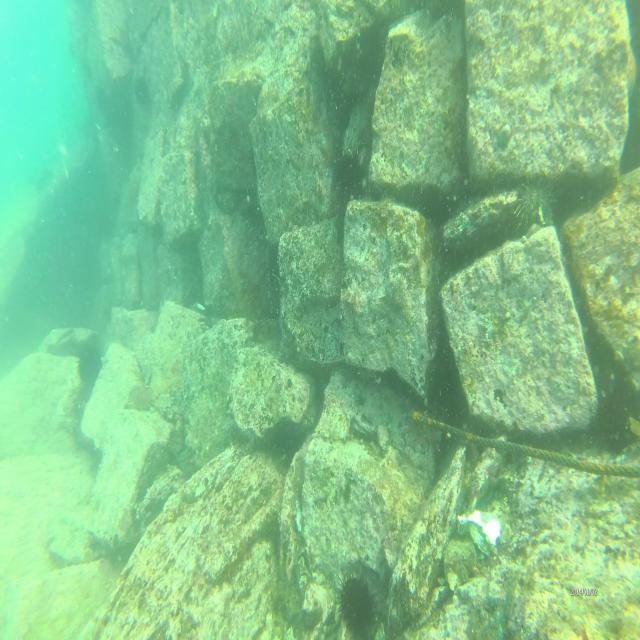echinus: (335, 565, 378, 640), (516, 172, 556, 228), (336, 147, 366, 205), (75, 342, 103, 391)
